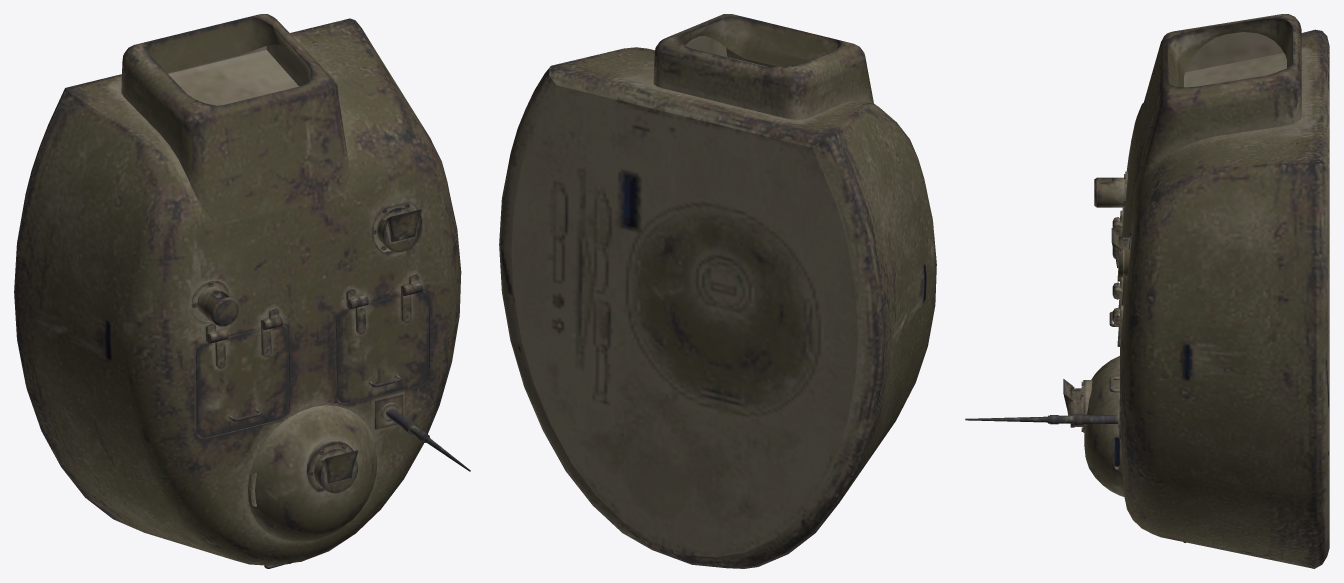
Rendered from Turret_01.glb.
3 renders of one model, left to right at view 1: azimuth 30°, elevation 25°; view 2: azimuth 150°, elevation 25°; view 3: azimuth 270°, elevation 25°, orthographic. The views are drawn at different scales.
Parts seen in each view (by area): view 1: set_0_group_0; view 2: set_0_group_0; view 3: set_0_group_0.
Boxes of the visible parts, x1,y1,x2,y2 form: set_0_group_0: (14, 14, 470, 568); set_0_group_0: (499, 14, 936, 568); set_0_group_0: (965, 14, 1329, 568).
Bounding box in the file's own units: 1.81 × 2.28 × 1.52.
1 material, 1 textured.
